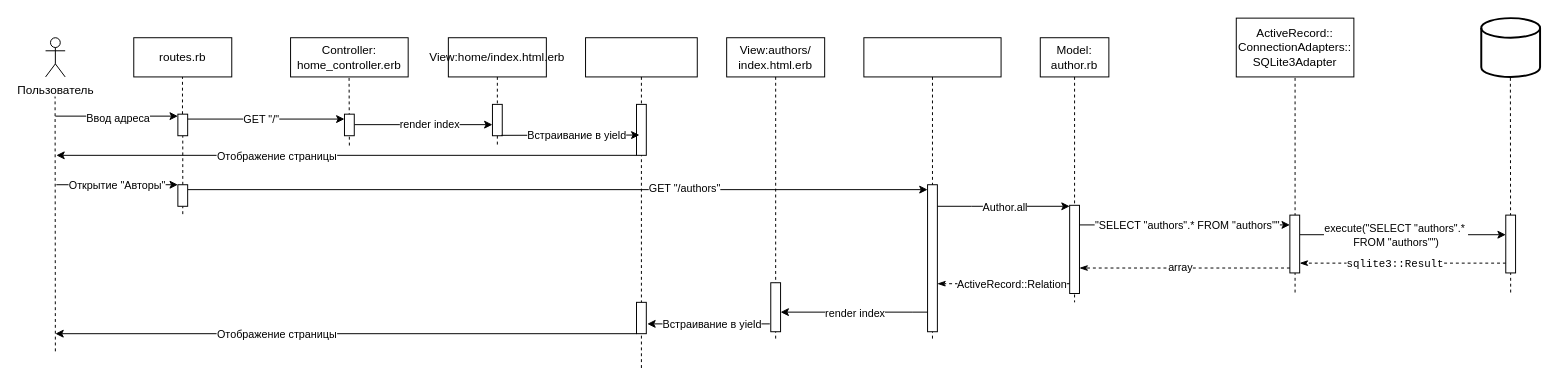
This 1557x388 diagram has some shape labels left out. The box of each missing label's shape, as (x1, y1, x2, y2) in pixels:
application.html.erb: (585, 37, 697, 371)
Controller: authors_controller.rb: (863, 37, 1001, 342)
База Данных: (1480, 17, 1541, 77)
